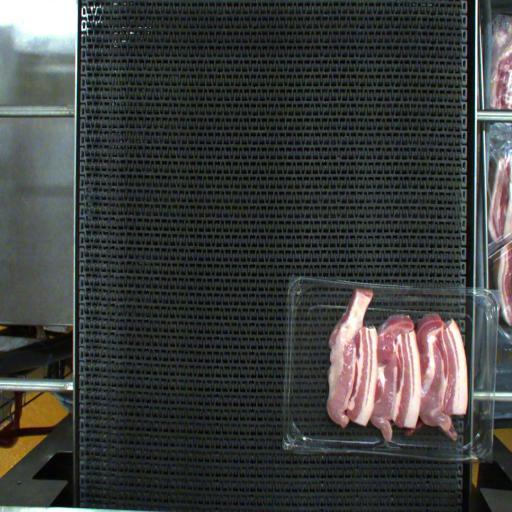packaging-error: (346, 266, 384, 304)
